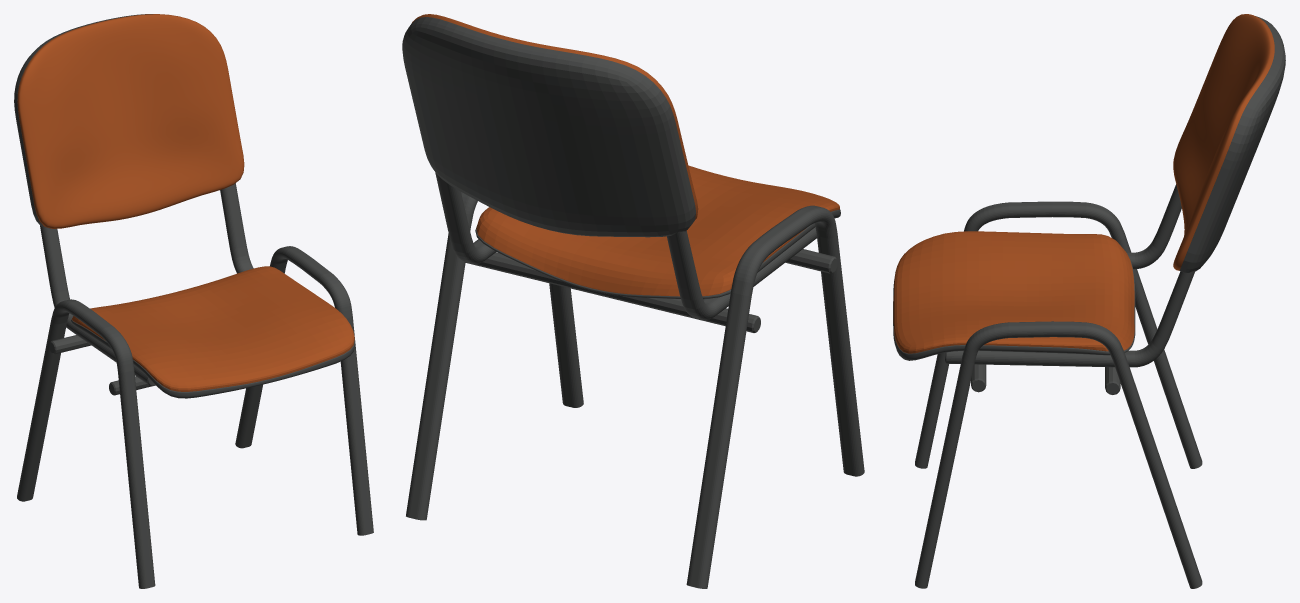
3 views of the same model, side by side, from view 1: azimuth 30°, elevation 25°; view 2: azimuth 150°, elevation 25°; view 3: azimuth 270°, elevation 25° (orthographic). The views are drawn at different scales.
Parts seen in each view (by area): view 1: Chair_BackCushion, Chair_SeatCushion, Chair_RightLeg, Chair_LeftLeg, Chair_Right, Chair_Left, Chair_SeatPlastic, Chair_BackPlastic, Chair_Back; view 2: Chair_BackPlastic, Chair_SeatCushion, Chair_RightLeg, Chair_LeftLeg, Chair_Right, Chair_Back, Chair_Left, Chair_BackCushion, Chair_SeatPlastic, Chair_Front; view 3: Chair_SeatCushion, Chair_BackCushion, Chair_LeftLeg, Chair_RightLeg, Chair_BackPlastic, Chair_Left, Chair_SeatPlastic, Chair_Right.
Part boxes in pixels (left/top/right/bottom): Chair_BackCushion: left=17, top=14, right=244, bottom=228; Chair_SeatCushion: left=72, top=266, right=354, bottom=391; Chair_RightLeg: left=17, top=299, right=155, bottom=588; Chair_LeftLeg: left=235, top=246, right=373, bottom=535; Chair_Right: left=40, top=225, right=155, bottom=386; Chair_Left: left=220, top=183, right=253, bottom=273; Chair_SeatPlastic: left=71, top=319, right=355, bottom=398; Chair_BackPlastic: left=14, top=14, right=152, bottom=228; Chair_Back: left=49, top=335, right=91, bottom=354; Chair_BackPlastic: left=402, top=17, right=695, bottom=237; Chair_SeatCushion: left=476, top=165, right=839, bottom=296; Chair_RightLeg: left=686, top=205, right=864, bottom=588; Chair_LeftLeg: left=406, top=192, right=583, bottom=520; Chair_Right: left=667, top=227, right=816, bottom=319; Chair_Back: left=465, top=252, right=760, bottom=332; Chair_Left: left=435, top=172, right=496, bottom=263; Chair_BackCushion: left=412, top=14, right=698, bottom=219; Chair_SeatPlastic: left=475, top=209, right=840, bottom=298; Chair_Front: left=785, top=249, right=837, bottom=273; Chair_SeatCushion: left=893, top=231, right=1134, bottom=353; Chair_BackCushion: left=1173, top=14, right=1274, bottom=270; Chair_LeftLeg: left=915, top=321, right=1202, bottom=588; Chair_RightLeg: left=915, top=201, right=1202, bottom=468; Chair_BackPlastic: left=1179, top=16, right=1285, bottom=272; Chair_Left: left=945, top=270, right=1195, bottom=367; Chair_SeatPlastic: left=893, top=253, right=1135, bottom=360; Chair_Right: left=1126, top=184, right=1181, bottom=269.
Size of the model in its own units: 48 by 81.84 by 60.88.
